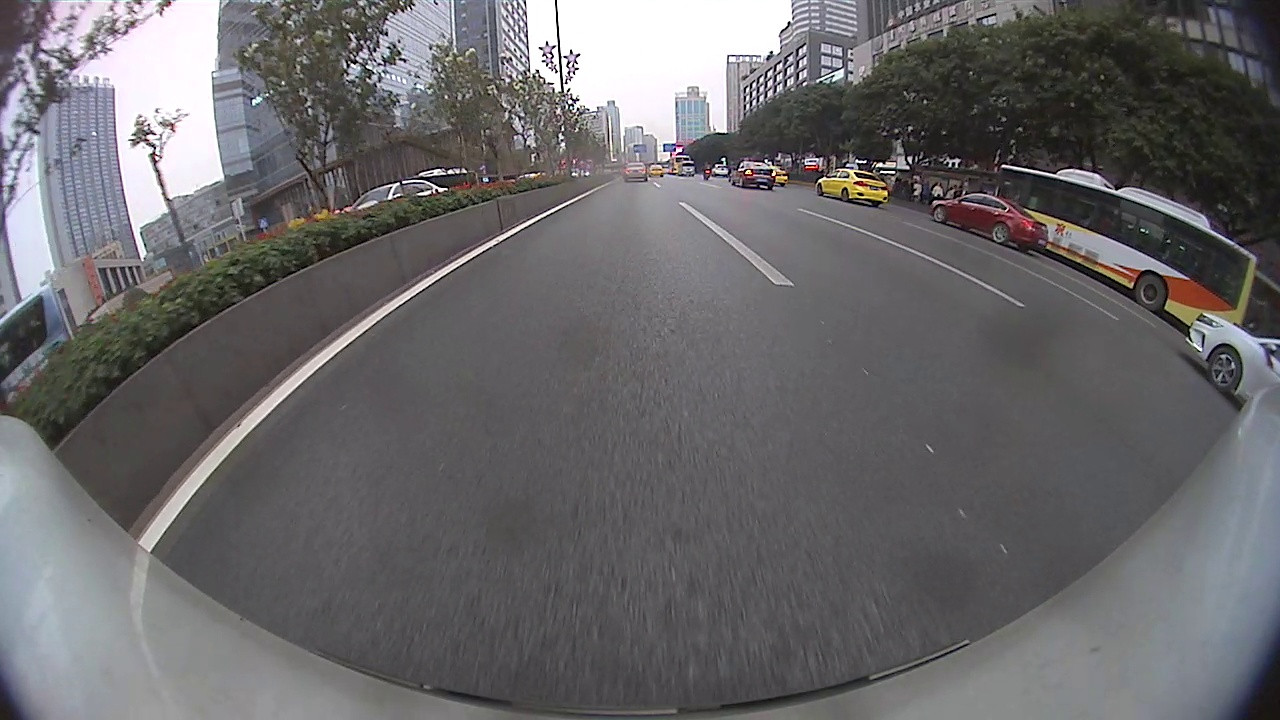bus: (996, 164, 1258, 330), (1, 280, 75, 404), (408, 169, 480, 190)
car: (1185, 311, 1279, 403), (927, 191, 1050, 253), (342, 179, 447, 216), (815, 162, 891, 208), (729, 160, 776, 191), (768, 163, 788, 187), (624, 161, 646, 182)
front: (1207, 346, 1243, 395), (933, 204, 950, 227)
rear: (1133, 270, 1170, 315), (992, 221, 1010, 247)
